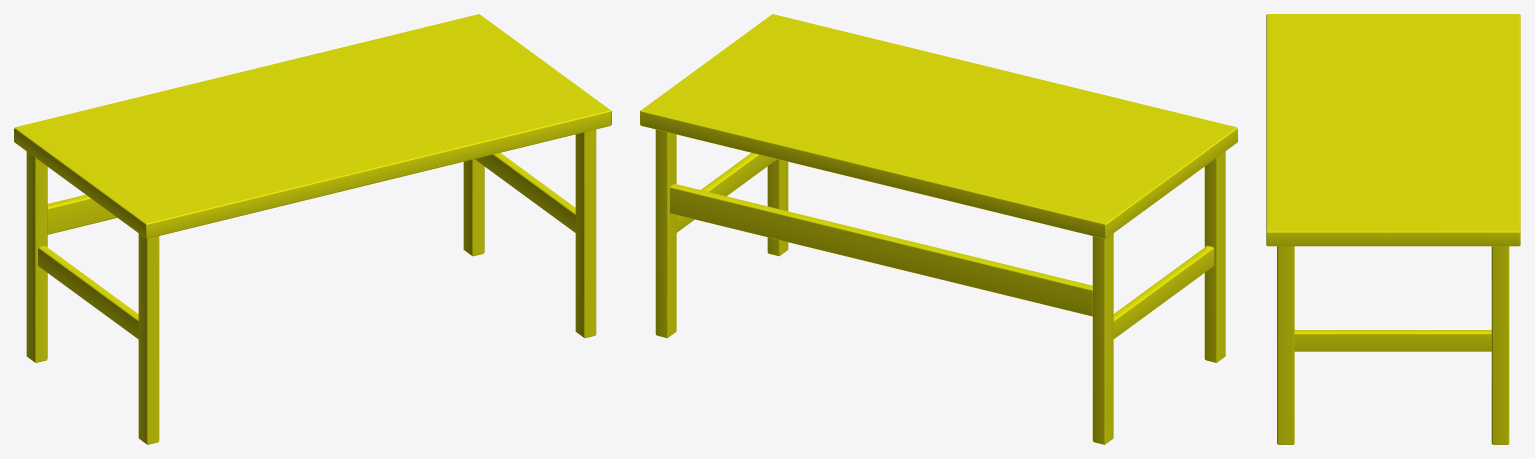
The model's file is SM_lgDesk.fbx.
3 renders of one model, left to right at view 1: azimuth 30°, elevation 25°; view 2: azimuth 150°, elevation 25°; view 3: azimuth 270°, elevation 25°, orthographic. The views are drawn at different scales.
Visible parts, largest first — view 1: SM_lgDesk; view 2: SM_lgDesk; view 3: SM_lgDesk.
Boxes of the visible parts, x1,y1,x2,y2 form: SM_lgDesk: (14,14,611,444); SM_lgDesk: (640,14,1237,444); SM_lgDesk: (1266,14,1520,444).
Size of the model in its own units: 204 by 95.09 by 101.
